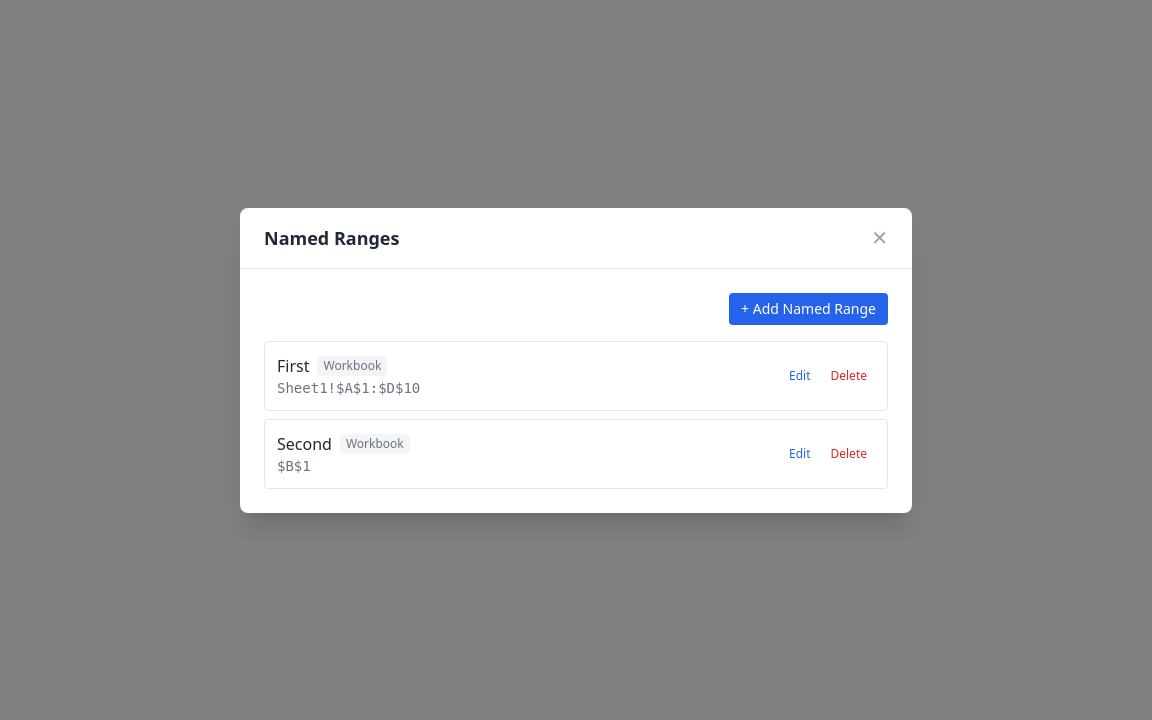
Test: NamedRangesModal › deletes the range from the edit form
The image size is (1152, 720).
Click the button with aria-label "Edit First": coordinates (800, 376) [781,364,818,388]
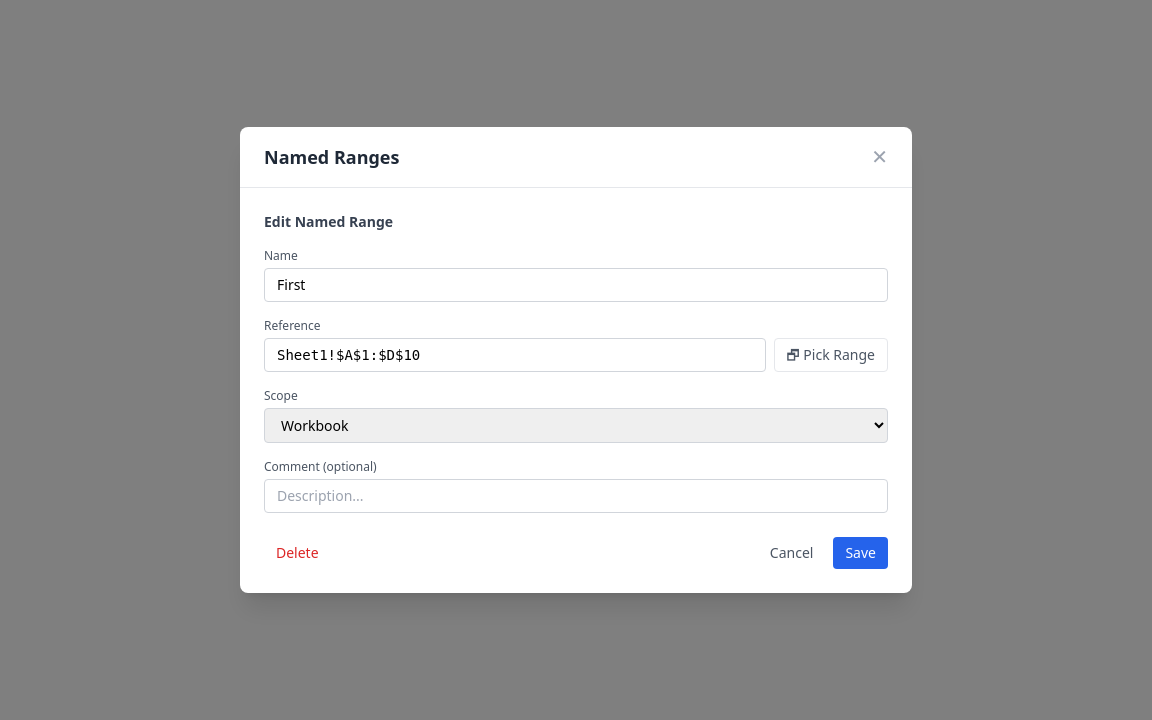
Click the button with test id "named-range-delete": coordinates (297, 553) [264,537,331,569]
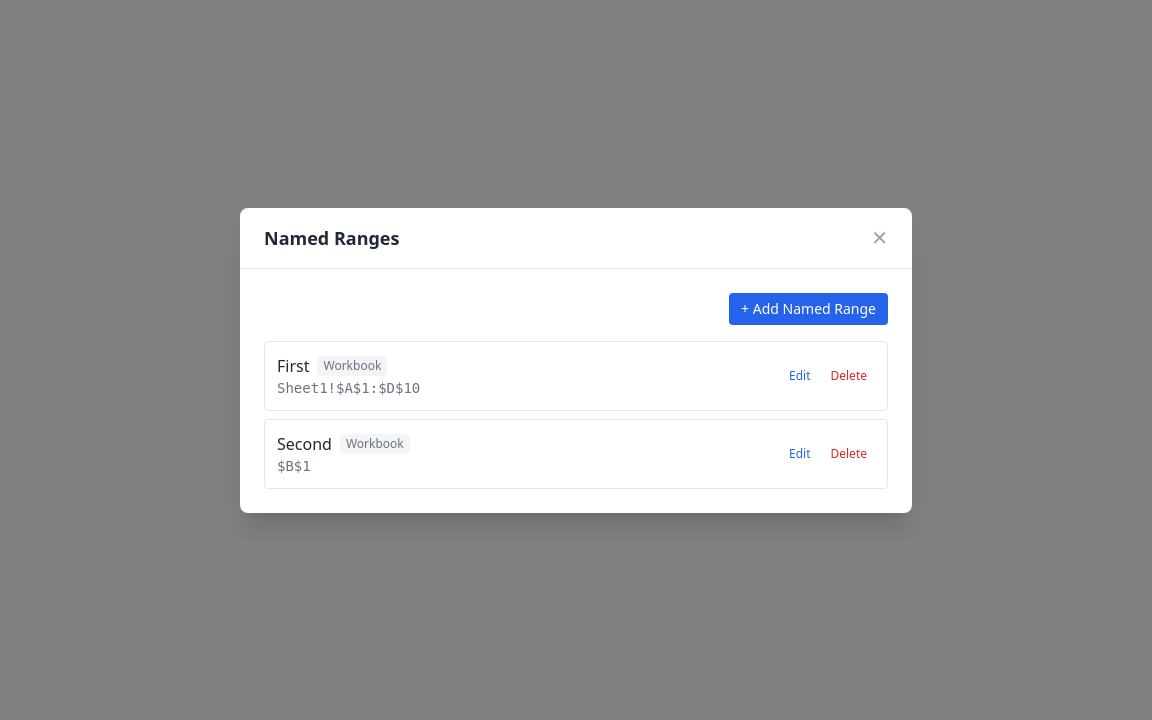
Now the text "Second" is shown, box [277,432,332,456]
